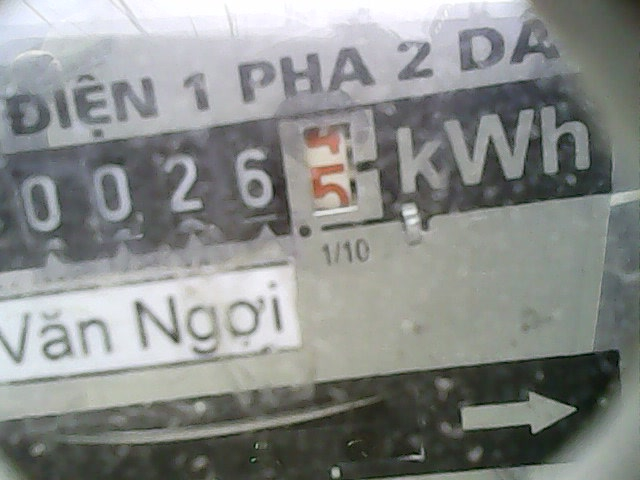phy_plate: (3, 111, 395, 252)
